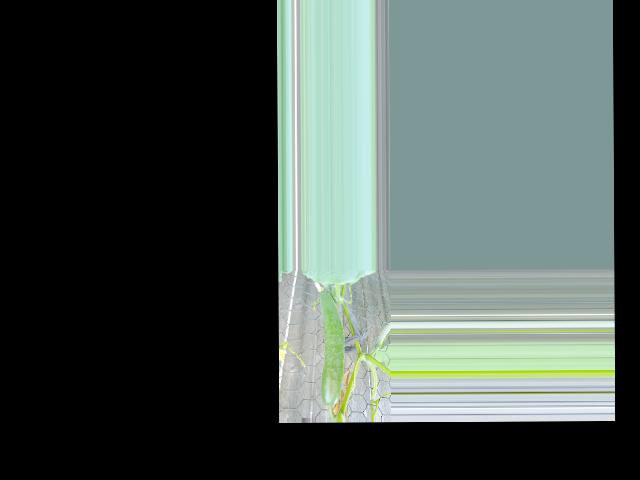cucumber: (319, 291, 345, 406)
